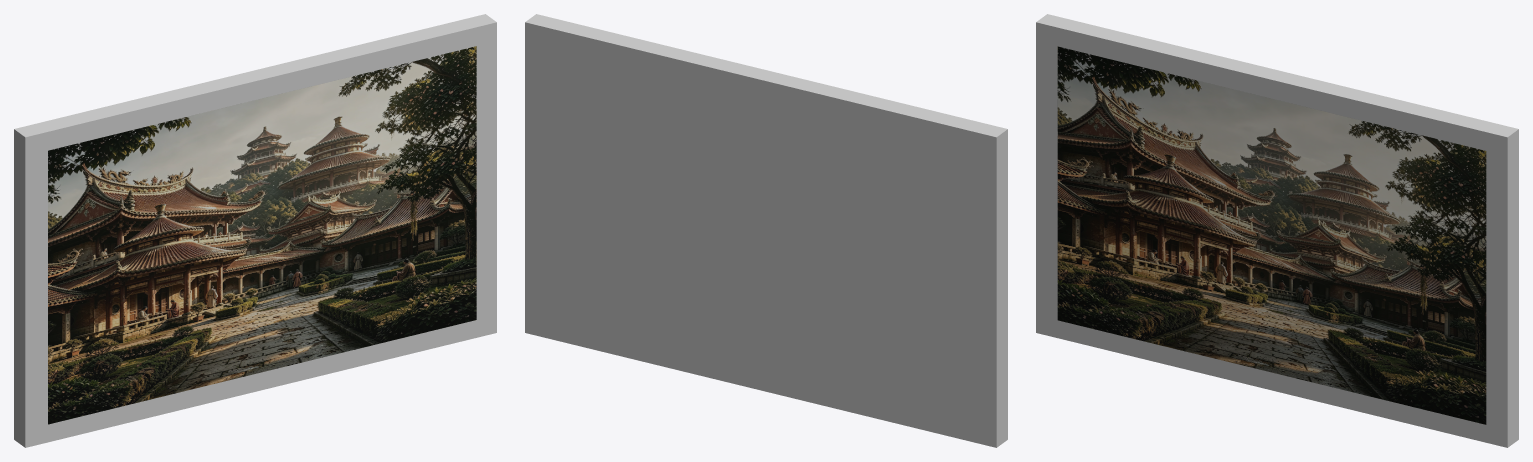
File: huang (4).glb
3 views of the same model, side by side, from view 1: azimuth 30°, elevation 25°; view 2: azimuth 150°, elevation 25°; view 3: azimuth 330°, elevation 25° (orthographic).
Parts seen in each view (by area): view 1: 平面, 立方体; view 2: 立方体; view 3: 平面, 立方体.
Boxes of the visible parts, bbox=[...] form: 平面: bbox=[48, 46, 476, 424]; 立方体: bbox=[14, 14, 496, 447]; 立方体: bbox=[525, 14, 1007, 447]; 平面: bbox=[1057, 46, 1486, 424]; 立方体: bbox=[1036, 14, 1518, 447].
Bounding box in the file's own units: 3.6 × 2.27 × 0.1551.
Materials: 1 (1 with a texture image).
